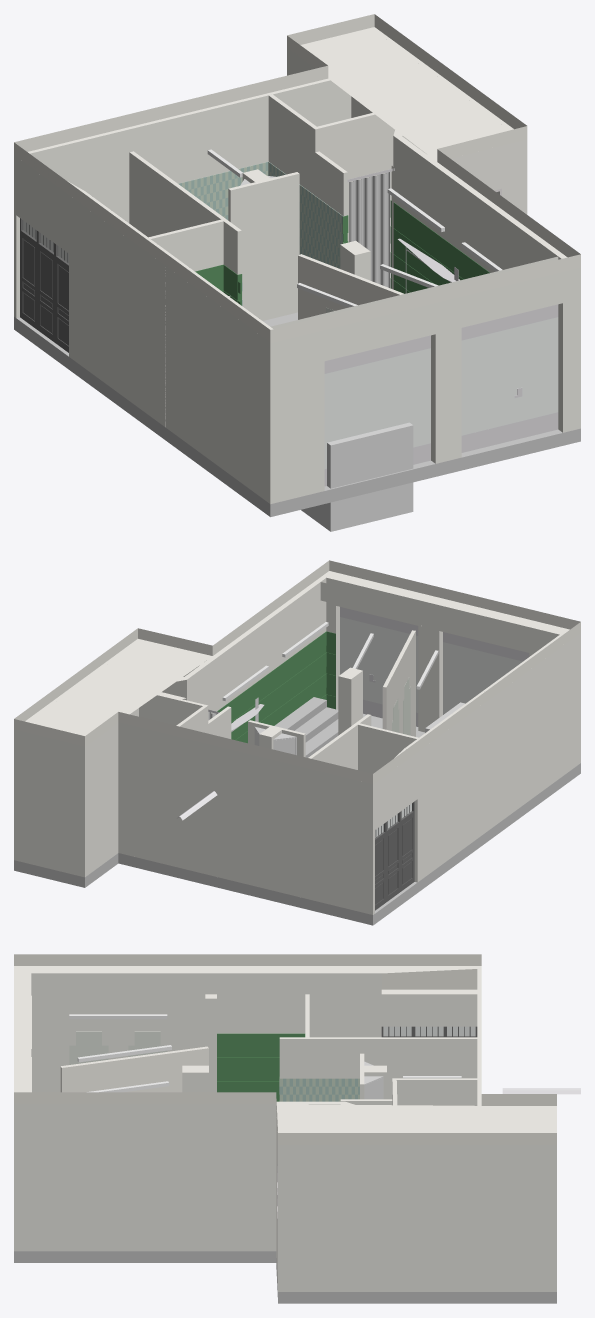
Rendered from room.glb.
The picture shows the model from 3 angles, top to bottom: view 1: azimuth 30°, elevation 25°; view 2: azimuth 150°, elevation 25°; view 3: azimuth 270°, elevation 25°; orthographic projection. The views are drawn at different scales.
Parts seen in each view (by area): view 1: VisualSceneNode1.004, VisualSceneNode1.038, VisualSceneNode1, VisualSceneNode1.046, VisualSceneNode1.026, VisualSceneNode1.075, Cube, VisualSceneNode1.050, VisualSceneNode1.007, VisualSceneNode1.029, VisualSceneNode1.003, VisualSceneNode1.051 (+24 smaller); view 2: VisualSceneNode1.004, VisualSceneNode1.038, VisualSceneNode1.007, VisualSceneNode1.006, VisualSceneNode1.010, VisualSceneNode1, VisualSceneNode1.046, VisualSceneNode1.026, VisualSceneNode1.003, VisualSceneNode1.012, VisualSceneNode1.075, VisualSceneNode1.065 (+23 smaller); view 3: VisualSceneNode1.011, VisualSceneNode1.003, VisualSceneNode1.004, VisualSceneNode1.038, VisualSceneNode1.051, VisualSceneNode1.046, VisualSceneNode1.026, VisualSceneNode1, VisualSceneNode1.065, VisualSceneNode1.015, VisualSceneNode1.008, VisualSceneNode1.257 (+11 smaller).
Part boxes in pixels (bbox=[...]): VisualSceneNode1.004: bbox=[14, 151, 273, 496]; VisualSceneNode1.038: bbox=[14, 14, 580, 342]; VisualSceneNode1: bbox=[261, 267, 580, 504]; VisualSceneNode1.046: bbox=[30, 95, 558, 328]; VisualSceneNode1.026: bbox=[14, 273, 580, 517]; VisualSceneNode1.075: bbox=[324, 348, 430, 468]; Cube: bbox=[301, 422, 413, 531]; VisualSceneNode1.050: bbox=[228, 172, 299, 318]; VisualSceneNode1.007: bbox=[171, 77, 334, 183]; VisualSceneNode1.029: bbox=[85, 267, 145, 412]; VisualSceneNode1.003: bbox=[393, 134, 567, 272]; VisualSceneNode1.051: bbox=[129, 151, 241, 274]; VisualSceneNode1.004: bbox=[359, 634, 573, 914]; VisualSceneNode1.038: bbox=[14, 560, 580, 784]; VisualSceneNode1.007: bbox=[118, 722, 245, 883]; VisualSceneNode1.006: bbox=[246, 753, 359, 911]; VisualSceneNode1.010: bbox=[14, 729, 86, 877]; VisualSceneNode1: bbox=[322, 571, 580, 768]; VisualSceneNode1.046: bbox=[159, 582, 553, 758]; VisualSceneNode1.026: bbox=[14, 709, 580, 925]; VisualSceneNode1.003: bbox=[182, 576, 326, 710]; VisualSceneNode1.012: bbox=[87, 722, 118, 875]; VisualSceneNode1.075: bbox=[443, 642, 522, 714]; VisualSceneNode1.065: bbox=[382, 630, 415, 736]; VisualSceneNode1.011: bbox=[291, 1145, 552, 1291]; VisualSceneNode1.003: bbox=[31, 1101, 344, 1251]; VisualSceneNode1.004: bbox=[31, 966, 481, 1092]; VisualSceneNode1.038: bbox=[14, 954, 556, 1144]; VisualSceneNode1.051: bbox=[279, 1037, 477, 1078]; VisualSceneNode1.046: bbox=[44, 969, 471, 1104]; VisualSceneNode1.026: bbox=[14, 1251, 556, 1303]; VisualSceneNode1: bbox=[14, 966, 31, 1251]; VisualSceneNode1.065: bbox=[60, 1046, 208, 1092]; VisualSceneNode1.015: bbox=[276, 1104, 291, 1291]; VisualSceneNode1.008: bbox=[392, 1078, 477, 1105]; VisualSceneNode1.257: bbox=[217, 1033, 304, 1049].
Size of the model in its own units: 9.73 by 5.03 by 13.03.
